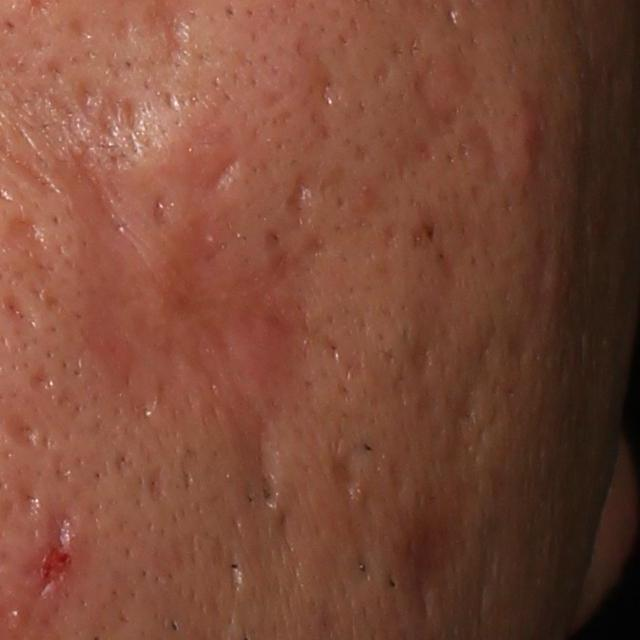atrophic_scar: (397, 487, 465, 618), (233, 418, 283, 529), (69, 84, 146, 139), (458, 333, 497, 440), (465, 119, 509, 189), (322, 446, 375, 501), (35, 514, 74, 583), (207, 150, 247, 203), (281, 170, 320, 223), (310, 58, 338, 111), (3, 419, 44, 455), (407, 330, 435, 375), (5, 294, 32, 339), (226, 550, 248, 599), (146, 194, 172, 234)
papule: (509, 114, 542, 171)
